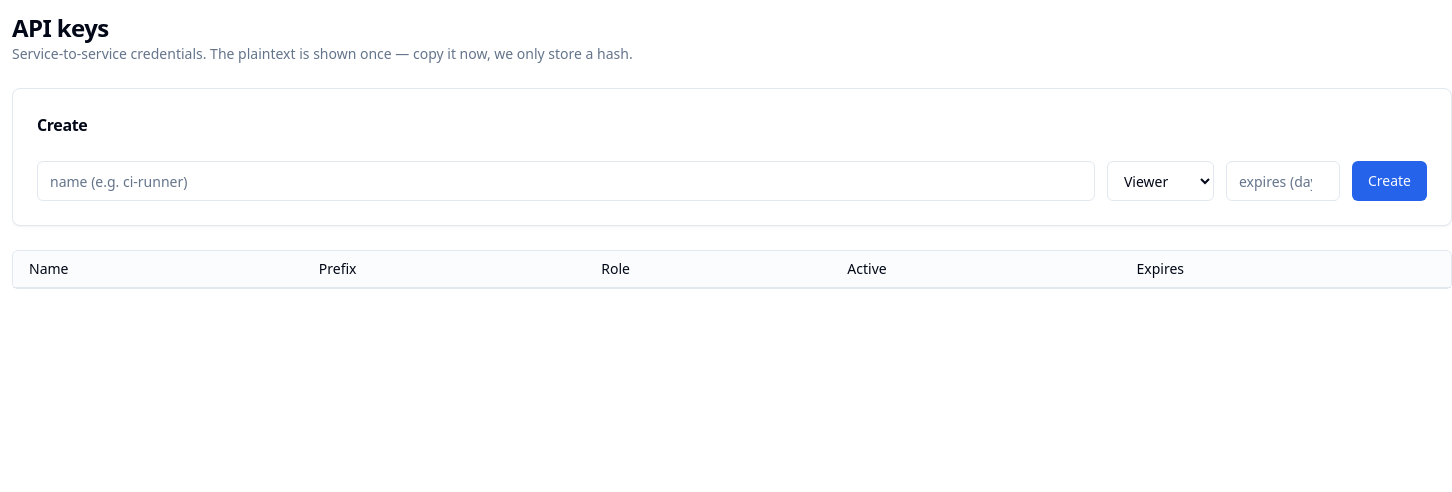
Test: ApiKeysPage › shows the plaintext once after create
Type "ci-runner" into the field named "key name" at (566, 181), box [37, 161, 1095, 201]
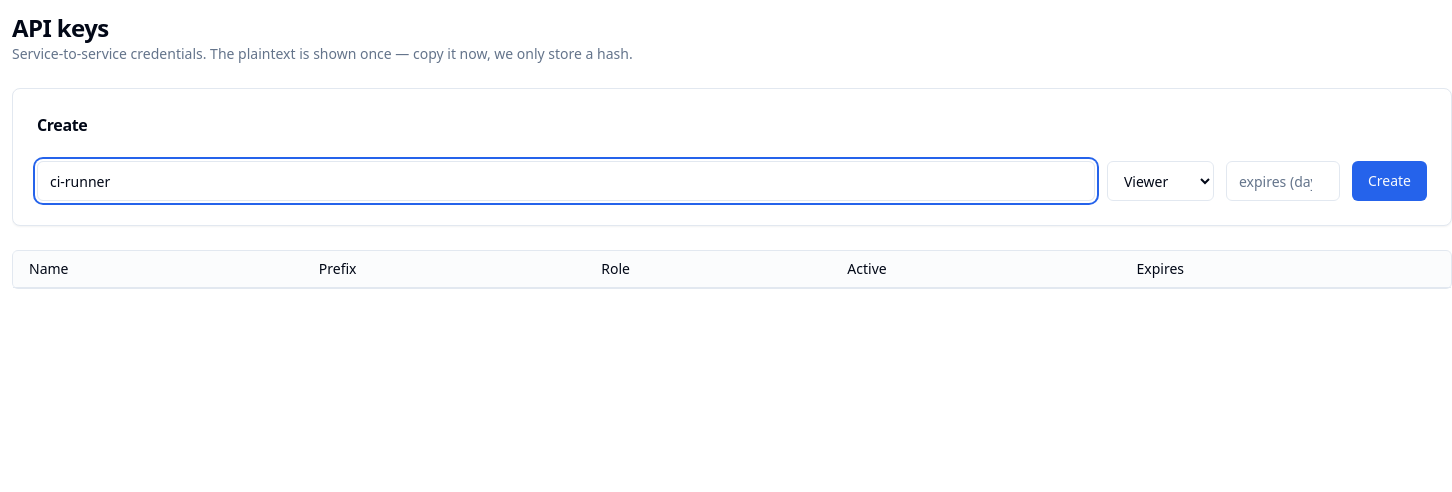
Click the button "Create" at (1389, 181), box [1352, 161, 1427, 201]
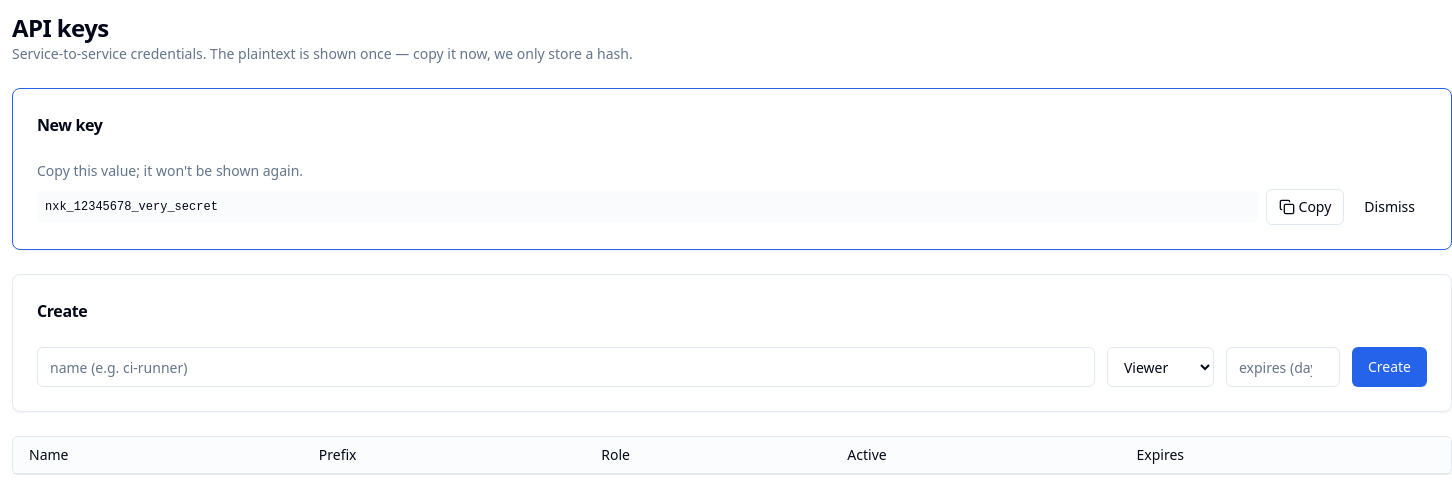
Check: the text with test id "new-api-key" reads "nxk_12345678_very_secret", box [45, 200, 218, 214]
